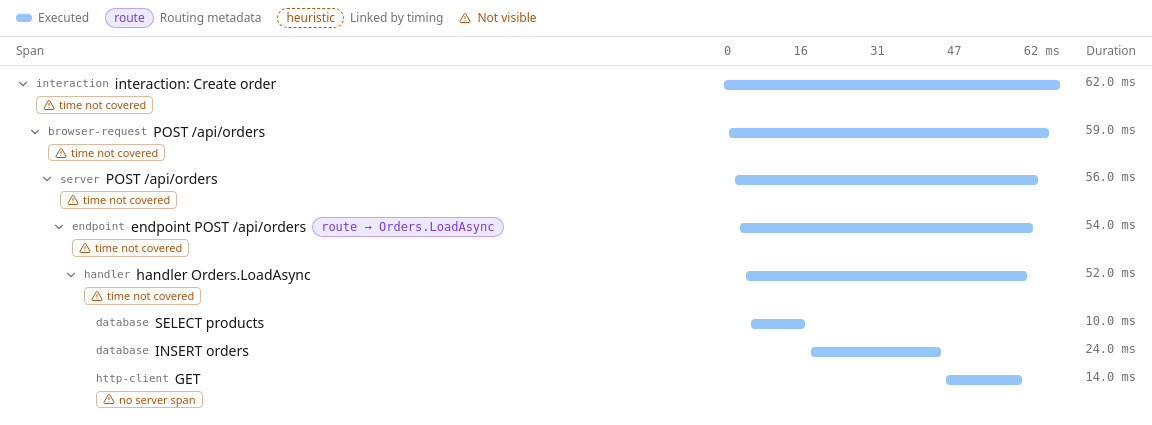
Test: execution tree › collapses and expands
What coordinates should you click on to do the following:
click the button named "Collapse" in the row of "handler Orders.LoadAsync"
I would click on:
 (71, 275)
Its box is [64,268,78,282].
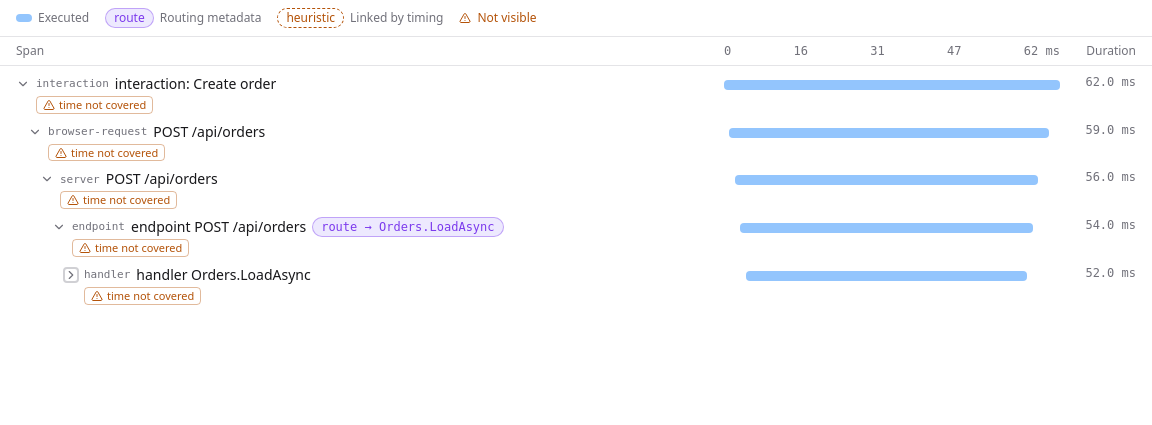
Result: the number of list items is 5 at [0,70,1151,118]; [0,118,1151,165]; [0,165,1151,213]; [0,213,1151,261]; [0,261,1151,308]
Result: the list item "handler handler Orders.LoadAsync time not covered 52.0 ms" is collapsed at [0,261,1151,308]
What coordinates should you click on to do the following:
click the button named "Expand"
I would click on:
 (71, 275)
Its box is [64,268,78,282].
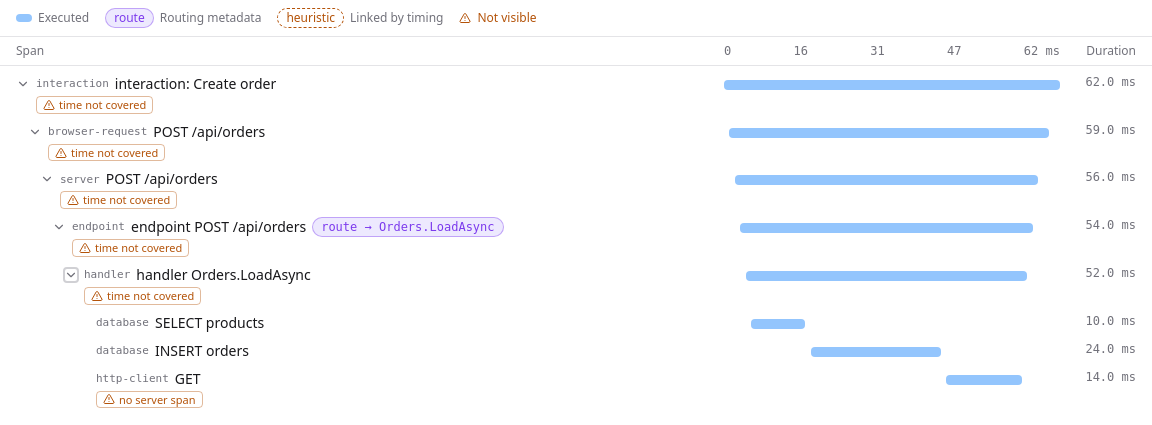
Result: the number of list items is 8
